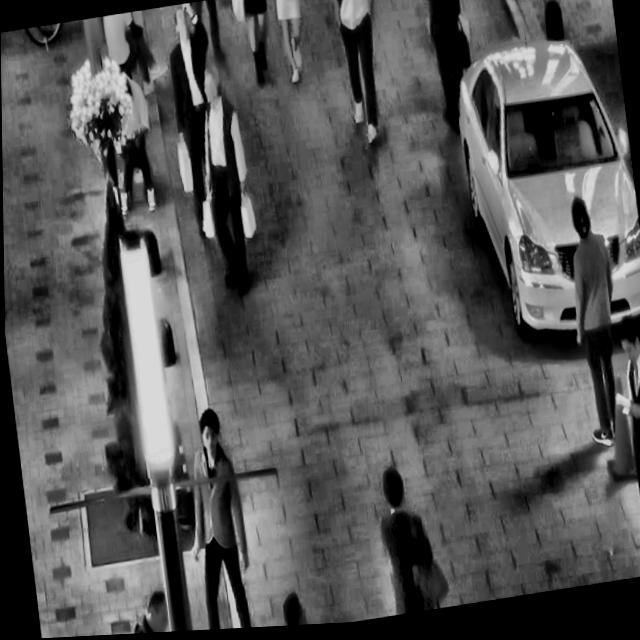light_vehicle: (441, 15, 640, 363)
